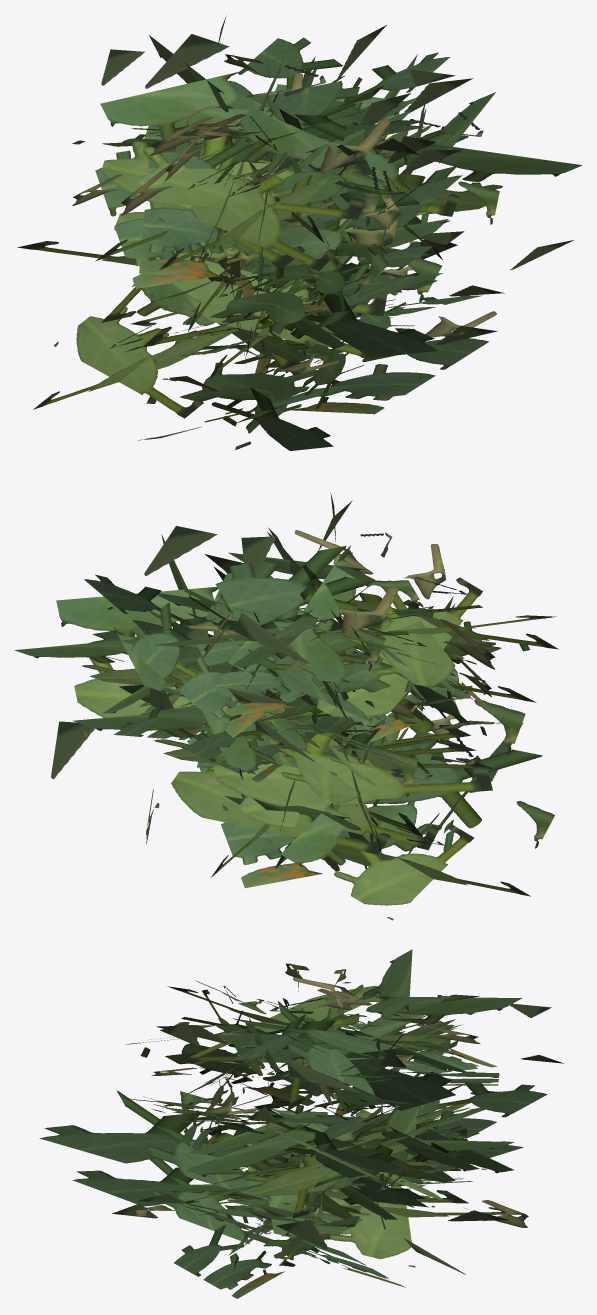
Rendered from hosta-clump-lod0.glb.
3 renders of one model, top to bottom at view 1: azimuth 30°, elevation 25°; view 2: azimuth 150°, elevation 25°; view 3: azimuth 270°, elevation 25°, orthographic. The views are drawn at different scales.
Visible parts, largest first — view 1: foliage; view 2: foliage; view 3: foliage.
Boxes of the visible parts, box(x1,y1,x2,y2) form: foliage: box(17, 15, 582, 450); foliage: box(14, 493, 558, 920); foliage: box(39, 949, 563, 1298).
Bounding box in the file's own units: 1.39 × 0.7995 × 1.48.
1 material, 1 textured.
